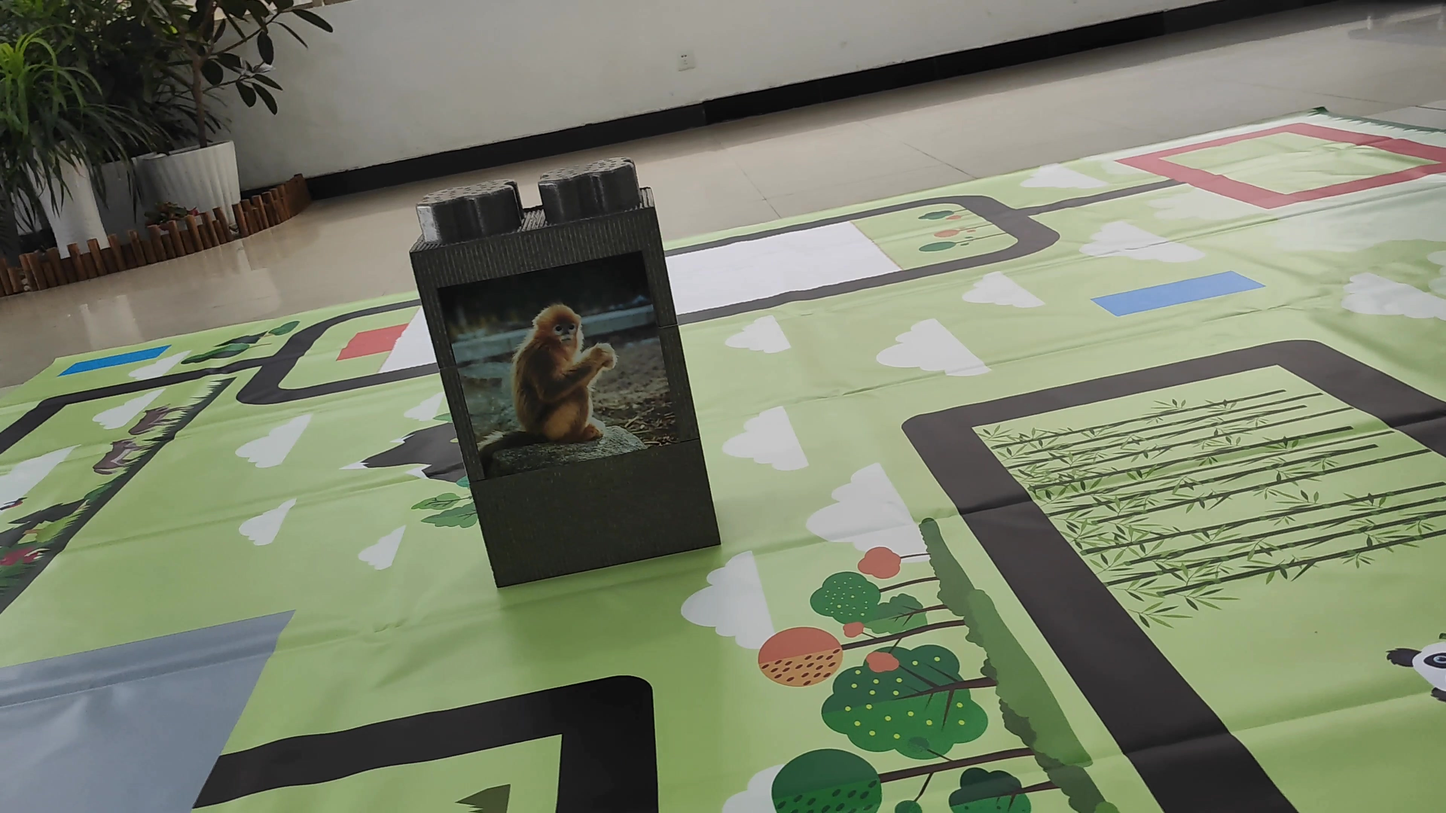monkey: (457, 278, 645, 467)
